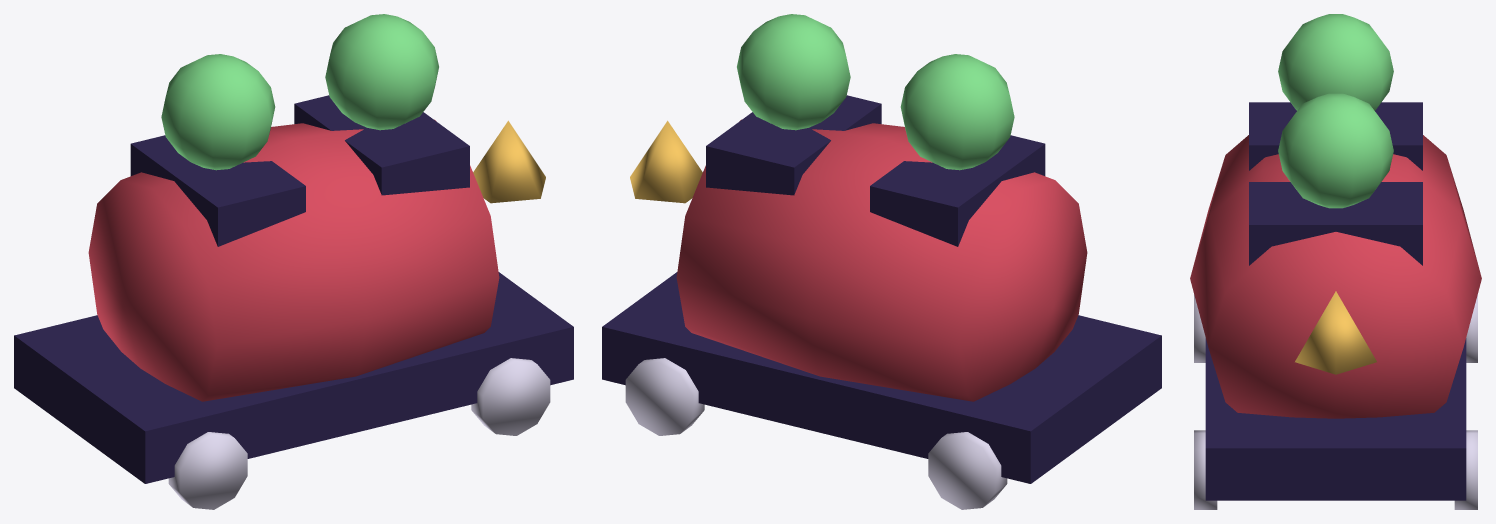
File: coaster-car.glb
3 views of the same model, side by side, from view 1: azimuth 30°, elevation 25°; view 2: azimuth 150°, elevation 25°; view 3: azimuth 270°, elevation 25° (orthographic).
Parts seen in each view (by area): view 1: coaster-car; view 2: coaster-car; view 3: coaster-car.
Boxes of the visible parts, x1,y1,x2,y2 form: coaster-car: (14, 14, 573, 509); coaster-car: (602, 14, 1161, 509); coaster-car: (1190, 14, 1481, 509).
Bounding box in the file's own units: 1.85 × 1.44 × 1.01.
